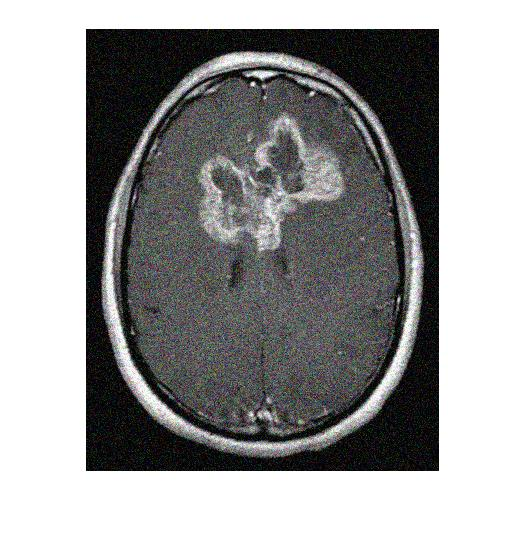Brain_Cancer: (205, 119, 342, 259)
